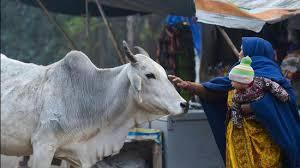cow: (0, 53, 187, 168)
